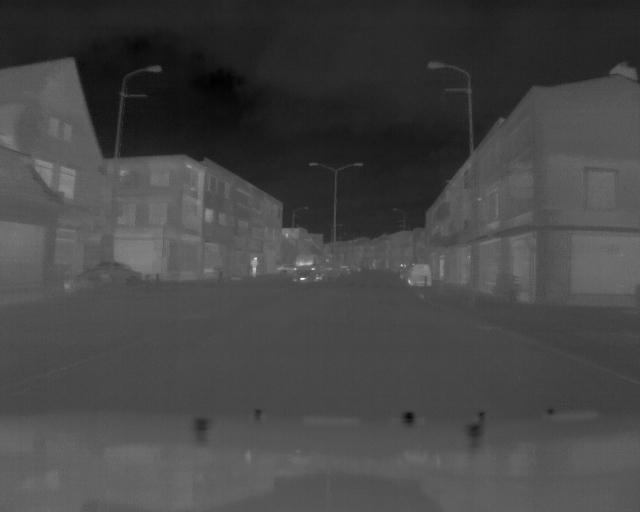car: (291, 251, 325, 284), (404, 263, 433, 287)
person: (250, 253, 258, 278)
